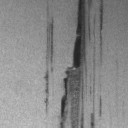slag inclusion: (59, 0, 105, 128), (43, 0, 55, 94), (98, 96, 102, 118), (45, 96, 50, 112)
